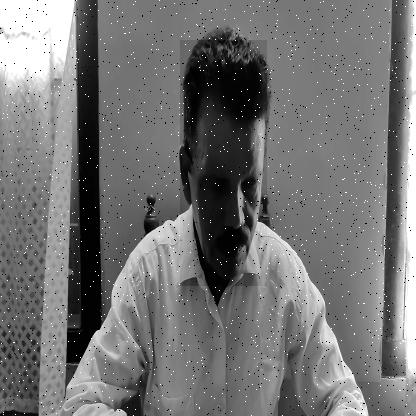Distracted: (180, 40, 267, 286)
